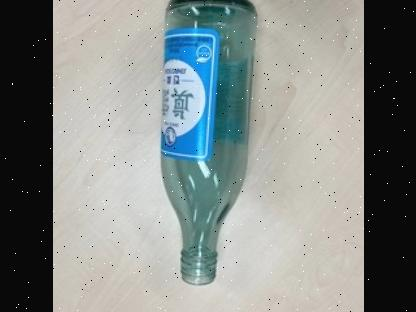Others: (152, 0, 261, 290)
